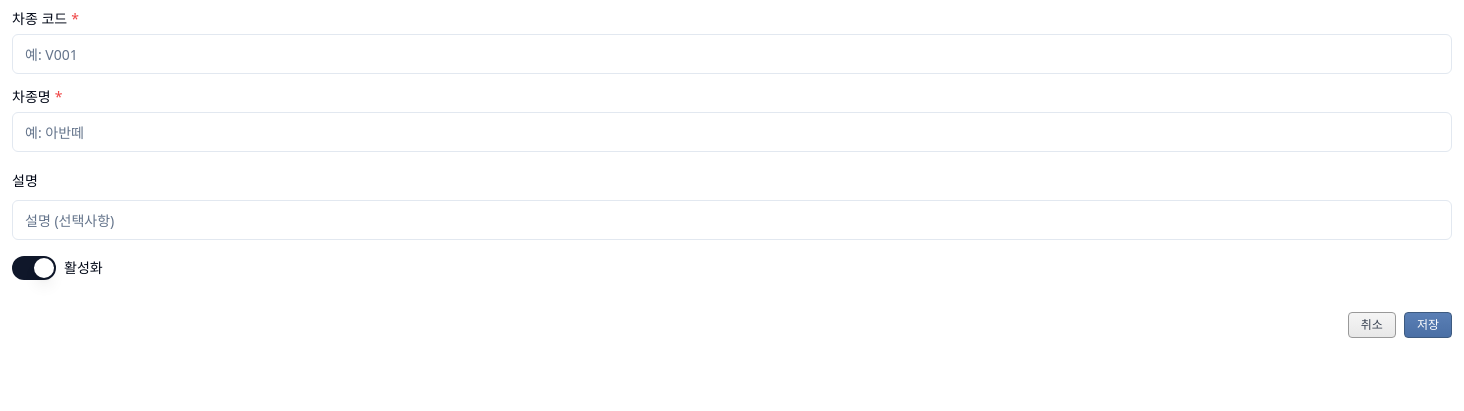
Test case: VehicleModelForm › 빈 폼 제출 시 유효성 오류 표시해야 함
What coordinates should you click on to do the following:
click the button "저장"
I would click on:
 (1428, 325)
Its box is left=1404, top=312, right=1452, bottom=338.
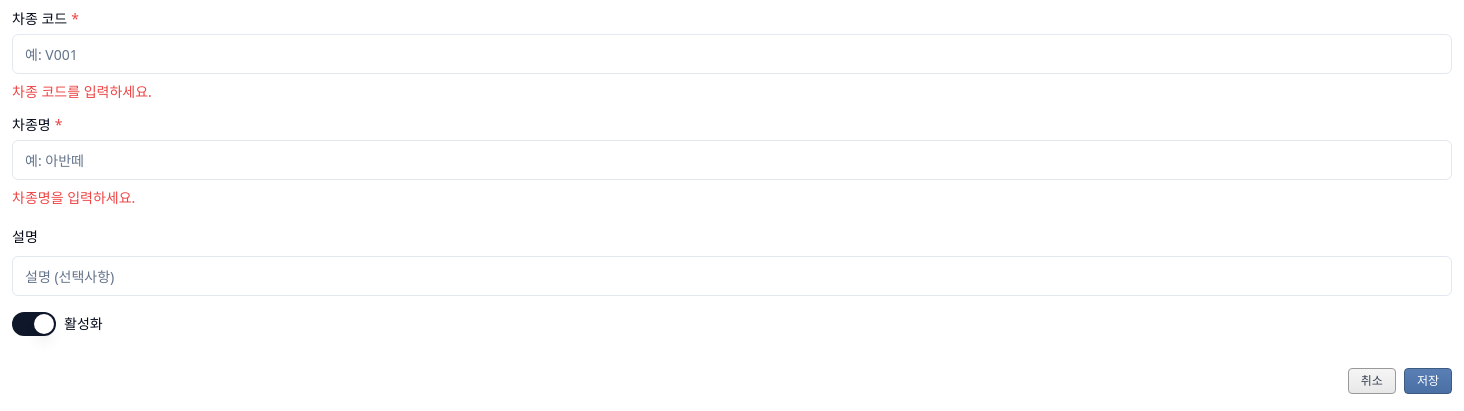
Expected: the text "차종 코드를 입력하세요." is shown, left=12, top=82, right=152, bottom=101
